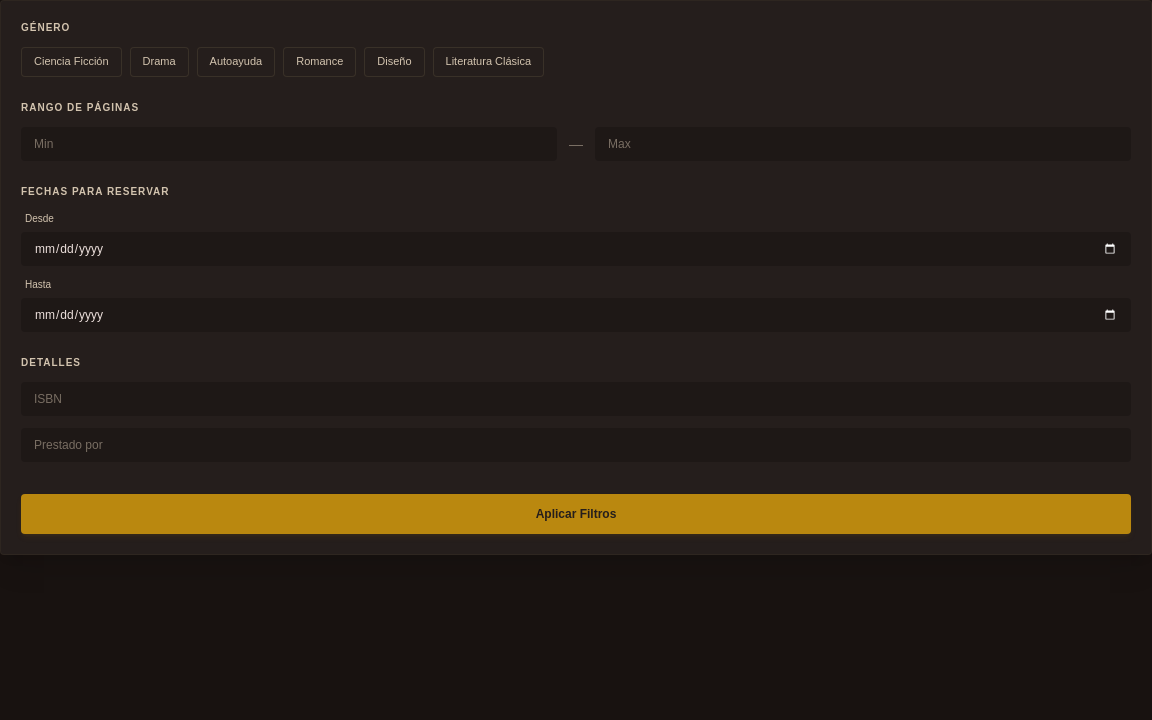
Test: Filters › muestra error de validacion si paginasMin es mayor a paginasMax
The image size is (1152, 720).
Type "500" into the number field with placeholder "Min".
click(289, 144); type("500")  # box [21,127,557,161]
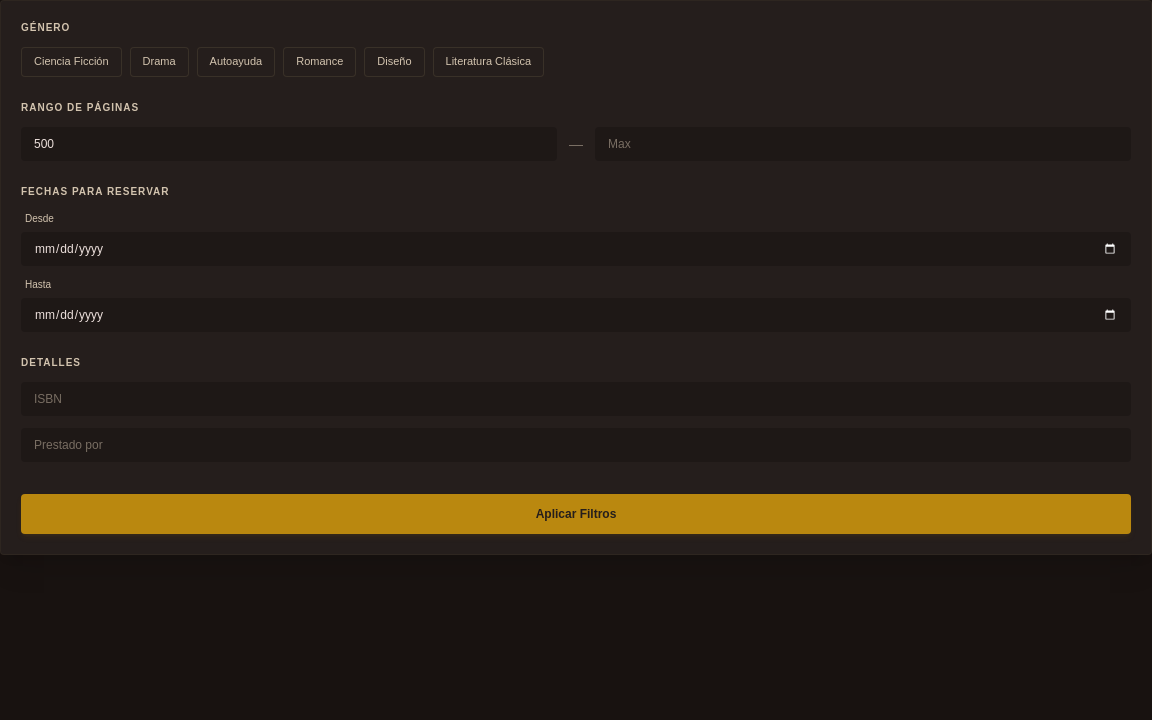
Type "100" into the number field with placeholder "Max".
click(863, 144); type("100")  # box [595,127,1131,161]
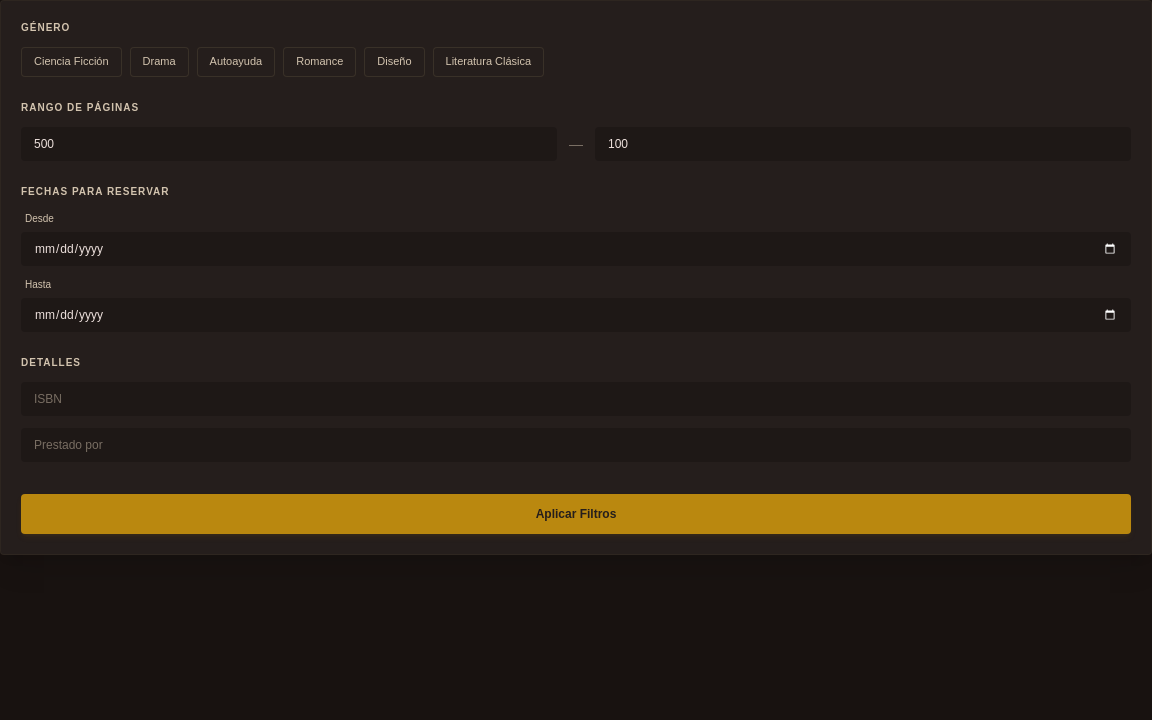
Click the button "Aplicar Filtros".
click(576, 514)  # box [21,494,1131,534]
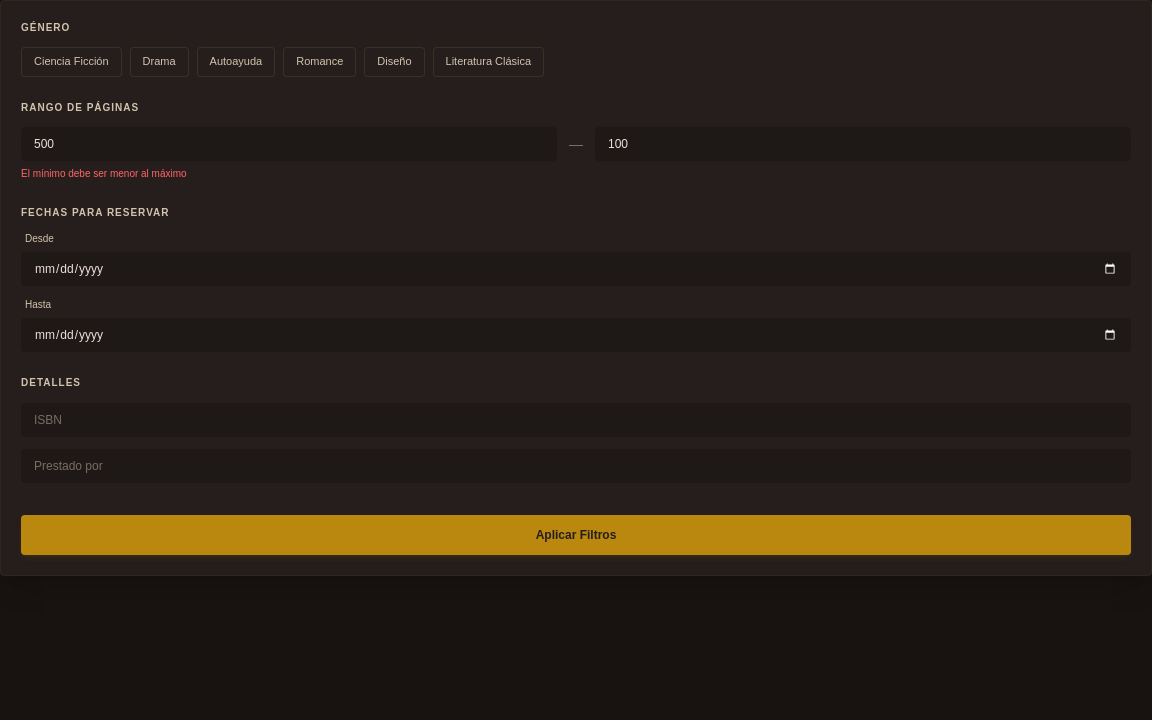
Expected: the text "El mínimo debe ser menor al máximo" is shown, [21,168,187,179]
